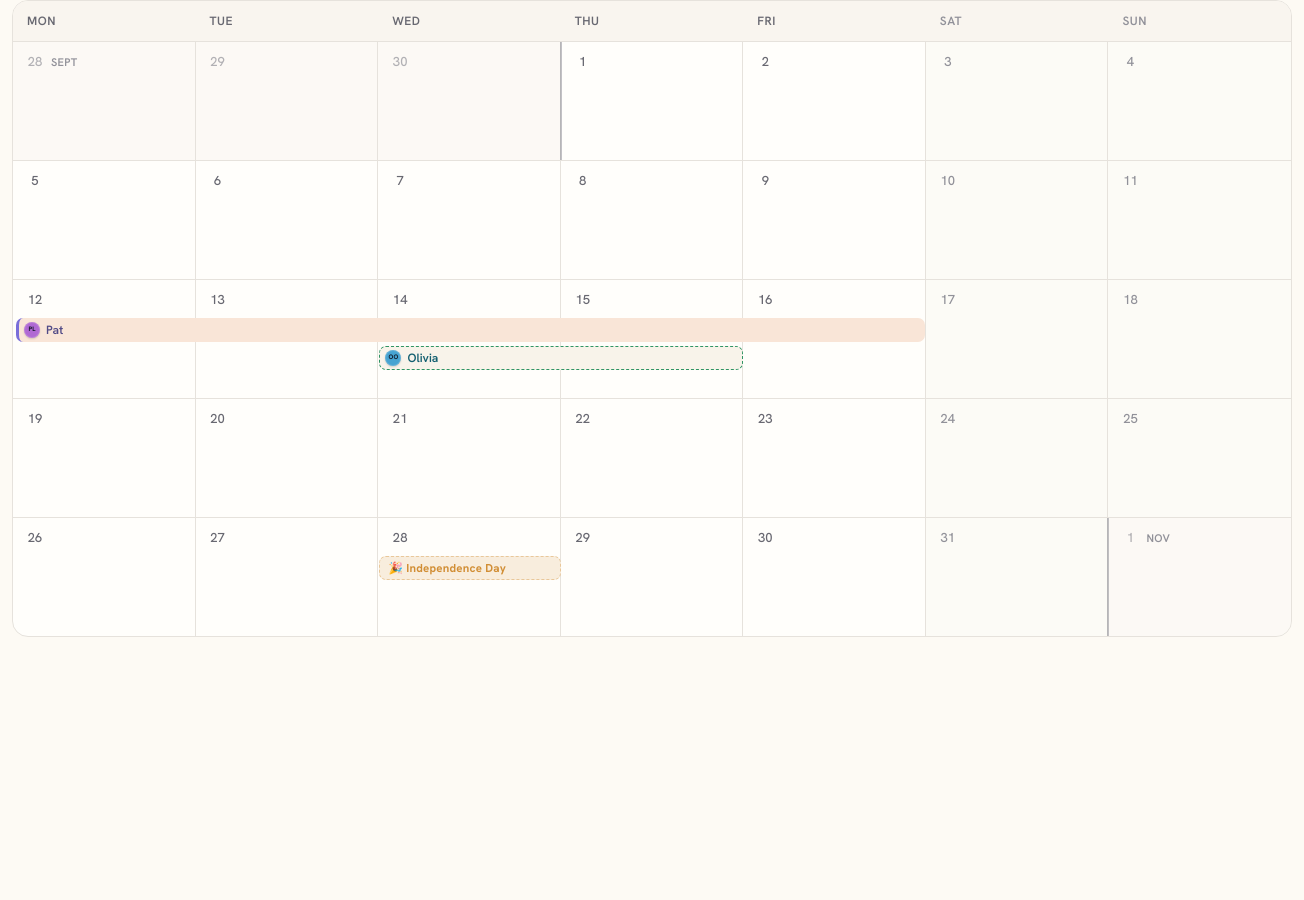
Test case: LeaveCalendar › skips bank holidays in the drag label's count
Press the mouse on the button "26" at (104, 577), box left=13, top=518, right=195, bottom=636
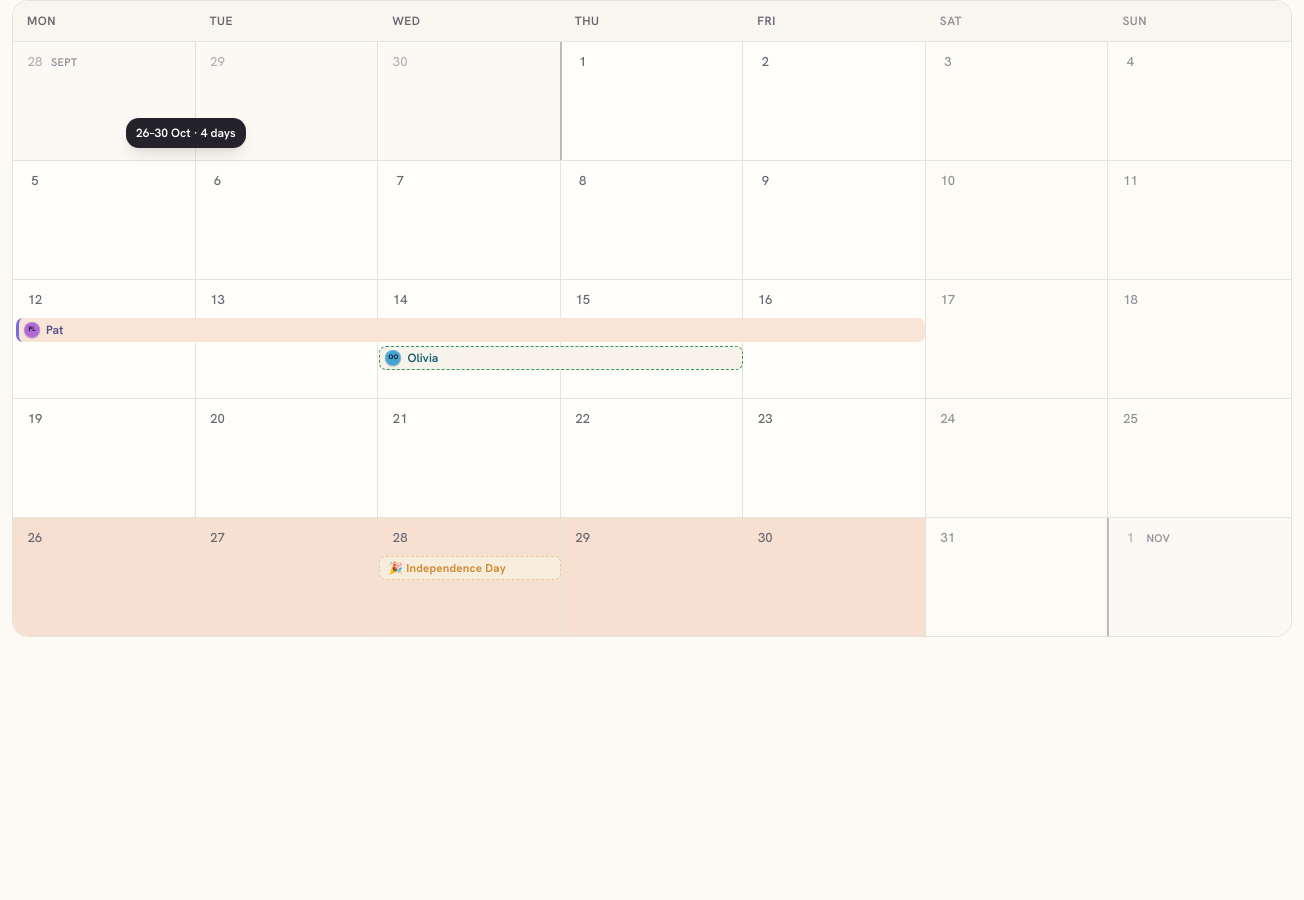
Now the text with test id "drag-range-label" shows "· 4 days", box left=126, top=118, right=246, bottom=148
